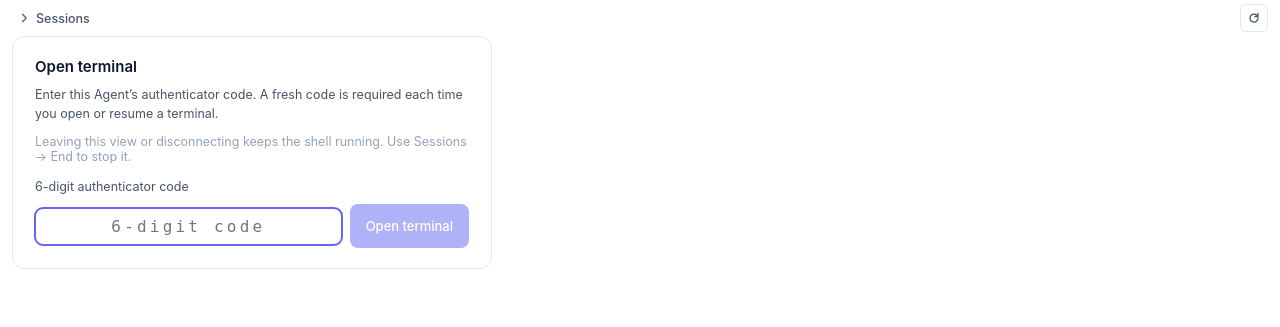
Scenario: Terminal session recovery › shows a slow listing and permits cancellation
Click the button "Sessions" at (63, 18), box [12, 6, 1236, 30]
Wait 8000 ms
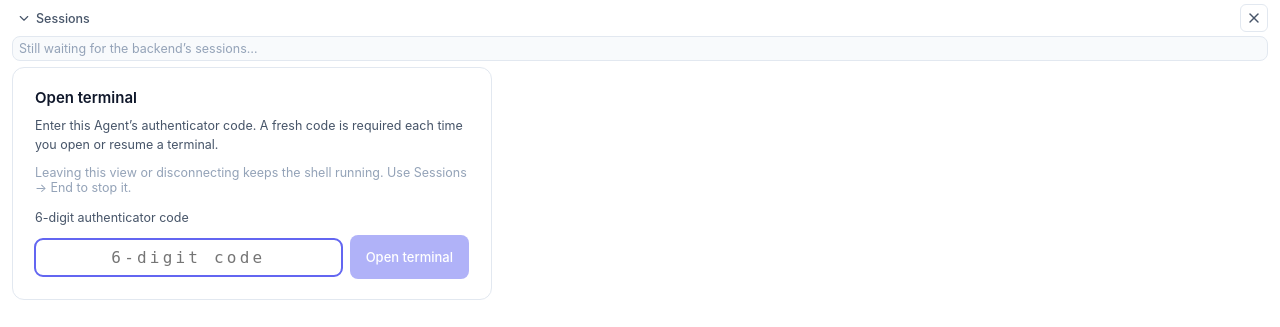
Now the text "Still waiting" is shown, box [19, 41, 258, 56]
Click the button named "Cancel refresh" at (1254, 18), box [1240, 4, 1268, 32]
Wait 60000 ms
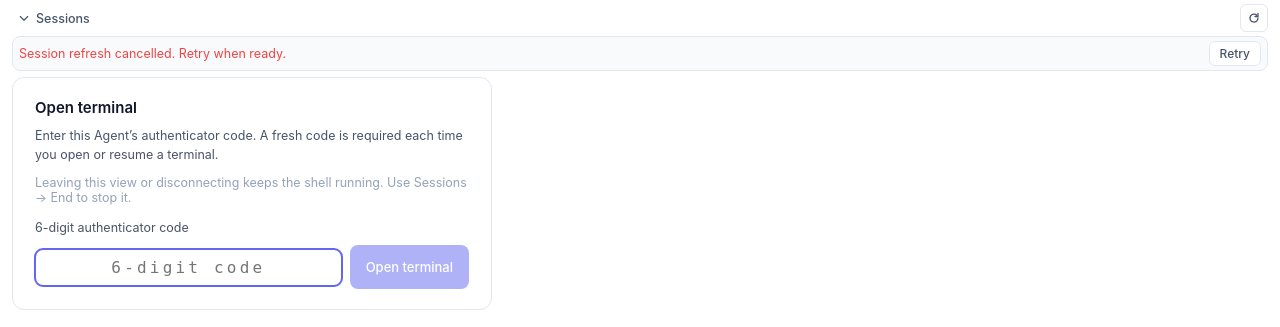
Now the text "Still waiting" is gone
Now the text "refresh cancelled" is shown, box [19, 46, 286, 61]
